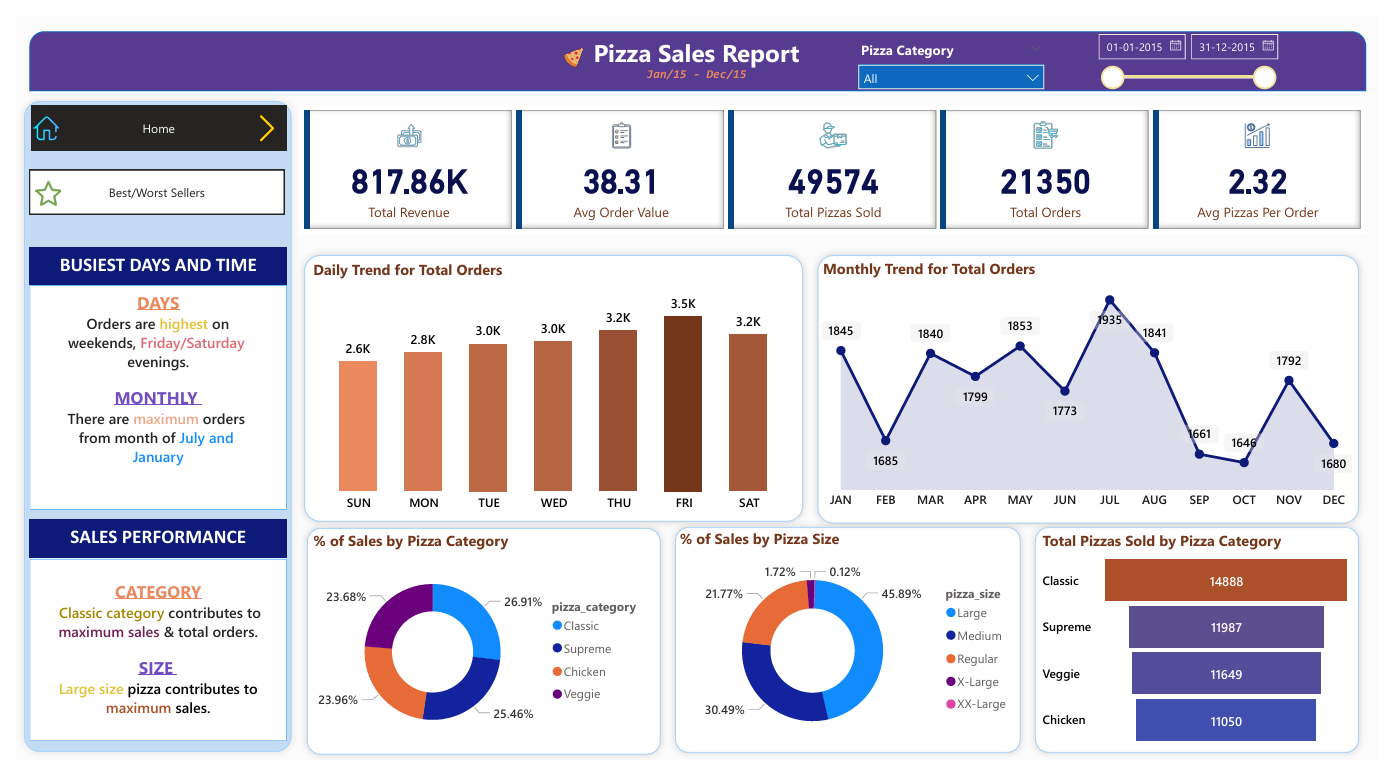

The page's visual inventory and layout, read from the dashboard file:
{"tool":"powerbi","page":{"name":"Home","canvas":[1500,820],"ordinal":0},"visuals":[{"type":"cardVisual","fields":{"Data":["pizza_sales.Total Revenue","pizza_sales.Avg Order Value","pizza_sales.Total Pizzas Sold","pizza_sales.Total Orders","pizza_sales.Avg Pizzas Order"]},"box":[312,98.1,1176,141.7],"z":0},{"type":"shape","box":[13.6,16.4,1474.4,65.4],"z":1000},{"type":"shape","box":[0,84.7,310.7,734.3],"z":2000},{"type":"textbox","box":[624.1,16.4,250.7,57.2],"z":3000},{"type":"textbox","box":[686.8,49.1,125.4,32.7],"z":4000},{"type":"image","box":[584.6,28.6,57.2,32.7],"z":5000},{"type":"shape","box":[309.3,254.8,565.5,310.7],"z":6000},{"type":"columnChart","title":"Daily Trend for Total Orders","fields":{"Category":["pizza_sales.Order Day"],"Y":["pizza_sales.Total Orders"]},"box":[321.6,268.4,541,286.2],"z":7000},{"type":"shape","box":[874.8,254.8,613.2,312],"z":8000},{"type":"areaChart","title":"Monthly Trend for Total Orders","fields":{"Y":["pizza_sales.Total Orders"],"Category":["pizza_sales.Order Month"]},"box":[884.4,267.1,592.8,284.8],"z":9000},{"type":"shape","box":[311.7,555.7,406.6,266.6],"z":10000},{"type":"shape","box":[718.1,554.6,396.5,265.7],"z":11000},{"type":"shape","box":[1114.6,554.6,373.4,265.7],"z":12000},{"type":"donutChart","title":"% of Sales by Pizza Category","fields":{"Category":["pizza_sales.pizza_category"],"Y":["pizza_sales.Total Revenue"]},"box":[321.6,566.9,382.9,245.3],"z":13000},{"type":"donutChart","title":"% of Sales by Pizza Size","fields":{"Y":["pizza_sales.Total Revenue"],"Category":["pizza_sales.pizza_size"]},"box":[726.3,565.5,382.9,245.3],"z":14000},{"type":"funnel","title":"Total Pizzas Sold by Pizza Category","fields":{"Category":["pizza_sales.pizza_category"],"Y":["pizza_sales.Total Pizzas Sold"]},"box":[1125.5,566.9,351.6,242.6],"z":15000},{"type":"textbox","box":[14.2,255,283.3,41.1],"z":16000},{"type":"textbox","box":[14.2,296.1,283.3,247.9],"z":17000},{"type":"textbox","box":[14.2,555.4,283.3,42.5],"z":18000},{"type":"textbox","box":[14.2,597.9,283.3,201.2],"z":19000},{"type":"slicer","fields":{"Values":["pizza_sales.pizza_category"]},"box":[918,21.3,225.3,60.9],"z":20000},{"type":"slicer","fields":{"Values":["pizza_sales.order_date"]},"box":[1180.1,8.5,216.8,73.7],"z":21000},{"type":"pageNavigator","box":[15.6,97.8,281.9,49.6],"z":22000},{"type":"pageNavigator","box":[14.2,168.6,281.9,49.6],"z":23000},{"type":"image","box":[256.4,99.2,39.7,46.8],"z":24000},{"type":"image","box":[14.2,99.2,38.3,46.8],"z":24001},{"type":"image","box":[15.6,175.7,38.3,38.3],"z":24002}]}

Visuals, with their boxes in screenshot pixels (x1, y1, x2, y2), scaled from the page's 1500x820 canvas onto the 1393x776 screenshot:
cardVisual - pizza_sales.Total Revenue x pizza_sales.Avg Order Value: {"left": 290, "top": 93, "right": 1382, "bottom": 227}
shape: {"left": 13, "top": 16, "right": 1382, "bottom": 77}
shape: {"left": 0, "top": 80, "right": 289, "bottom": 775}
textbox: {"left": 580, "top": 16, "right": 812, "bottom": 70}
textbox: {"left": 638, "top": 46, "right": 754, "bottom": 77}
image: {"left": 543, "top": 27, "right": 596, "bottom": 58}
shape: {"left": 287, "top": 241, "right": 812, "bottom": 535}
"Daily Trend for Total Orders" columnChart: {"left": 299, "top": 254, "right": 801, "bottom": 525}
shape: {"left": 812, "top": 241, "right": 1382, "bottom": 536}
"Monthly Trend for Total Orders" areaChart: {"left": 821, "top": 253, "right": 1372, "bottom": 522}
shape: {"left": 289, "top": 526, "right": 667, "bottom": 775}
shape: {"left": 667, "top": 525, "right": 1035, "bottom": 775}
shape: {"left": 1035, "top": 525, "right": 1382, "bottom": 775}
"% of Sales by Pizza Category" donutChart: {"left": 299, "top": 536, "right": 654, "bottom": 769}
"% of Sales by Pizza Size" donutChart: {"left": 674, "top": 535, "right": 1030, "bottom": 767}
"Total Pizzas Sold by Pizza Category" funnel: {"left": 1045, "top": 536, "right": 1372, "bottom": 766}
textbox: {"left": 13, "top": 241, "right": 276, "bottom": 280}
textbox: {"left": 13, "top": 280, "right": 276, "bottom": 515}
textbox: {"left": 13, "top": 526, "right": 276, "bottom": 566}
textbox: {"left": 13, "top": 566, "right": 276, "bottom": 756}
slicer - pizza_sales.pizza_category: {"left": 853, "top": 20, "right": 1062, "bottom": 78}
slicer - pizza_sales.order_date: {"left": 1096, "top": 8, "right": 1297, "bottom": 78}
pageNavigator: {"left": 14, "top": 93, "right": 276, "bottom": 139}
pageNavigator: {"left": 13, "top": 160, "right": 275, "bottom": 206}
image: {"left": 238, "top": 94, "right": 275, "bottom": 138}
image: {"left": 13, "top": 94, "right": 49, "bottom": 138}
image: {"left": 14, "top": 166, "right": 50, "bottom": 203}
